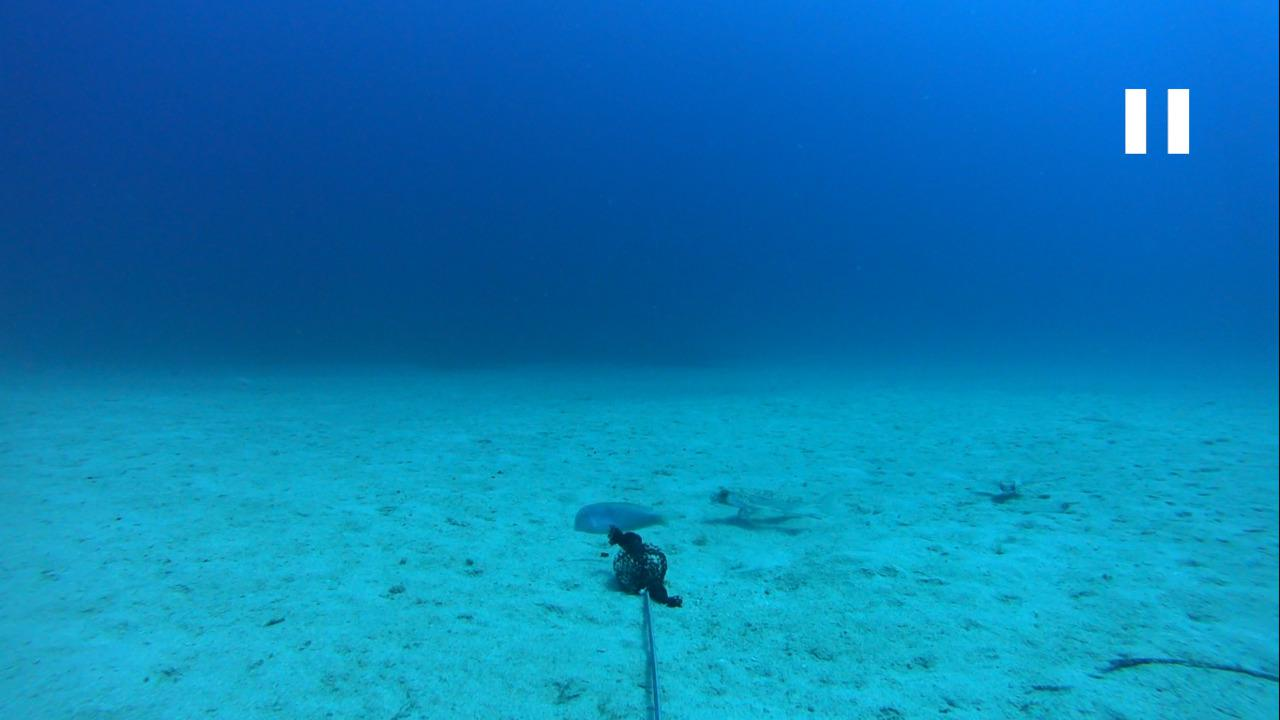dactylopterus: (699, 478, 835, 534), (974, 468, 1038, 504)
raor: (570, 494, 672, 536)
